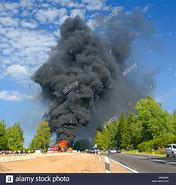smoke: (30, 15, 129, 140)
